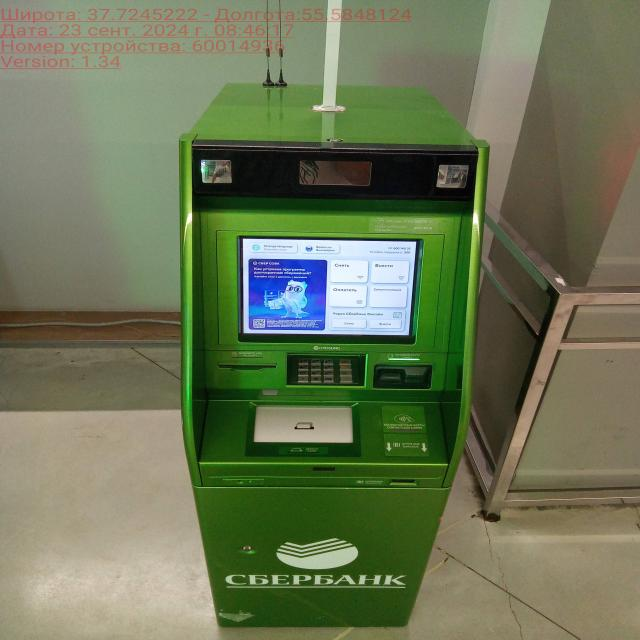bank: (175, 82, 476, 630)
